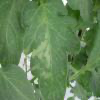Tomato leaf bacterial spot: (21, 3, 81, 100)
